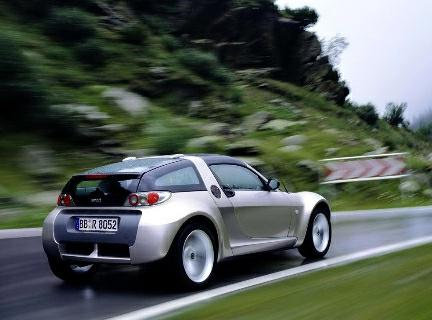smart-roadster: (33, 151, 339, 295)
